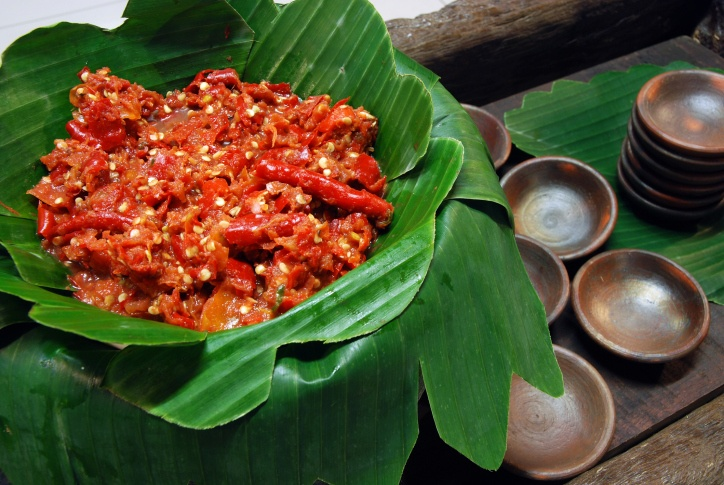sambal: (28, 64, 383, 335)
